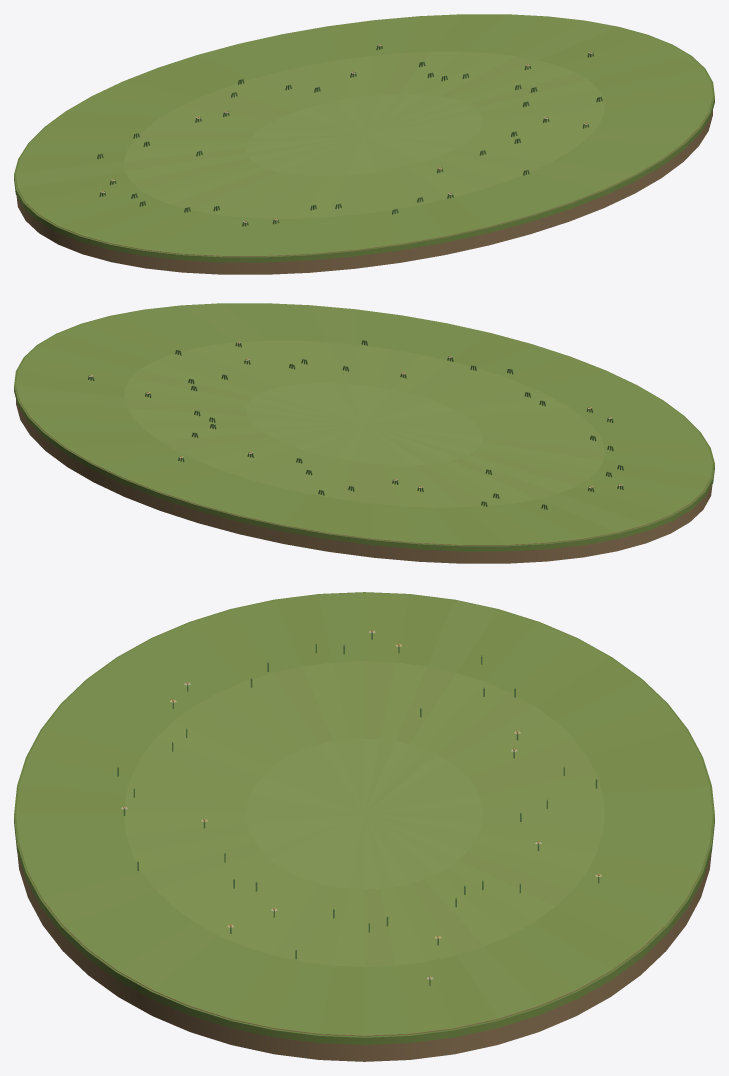
The model's file is meadow.glb.
3 renders of one model, top to bottom at view 1: azimuth 30°, elevation 25°; view 2: azimuth 150°, elevation 25°; view 3: azimuth 270°, elevation 25°, orthographic. The views are drawn at different scales.
Visible parts, largest first — view 1: meadow_mesh; view 2: meadow_mesh; view 3: meadow_mesh.
Boxes of the visible parts, x1,y1,x2,y2 form: meadow_mesh: (14,14,714,274); meadow_mesh: (14,303,714,563); meadow_mesh: (14,592,714,1061).
Bounding box in the file's own units: 17.1 × 0.615 × 11.37.
